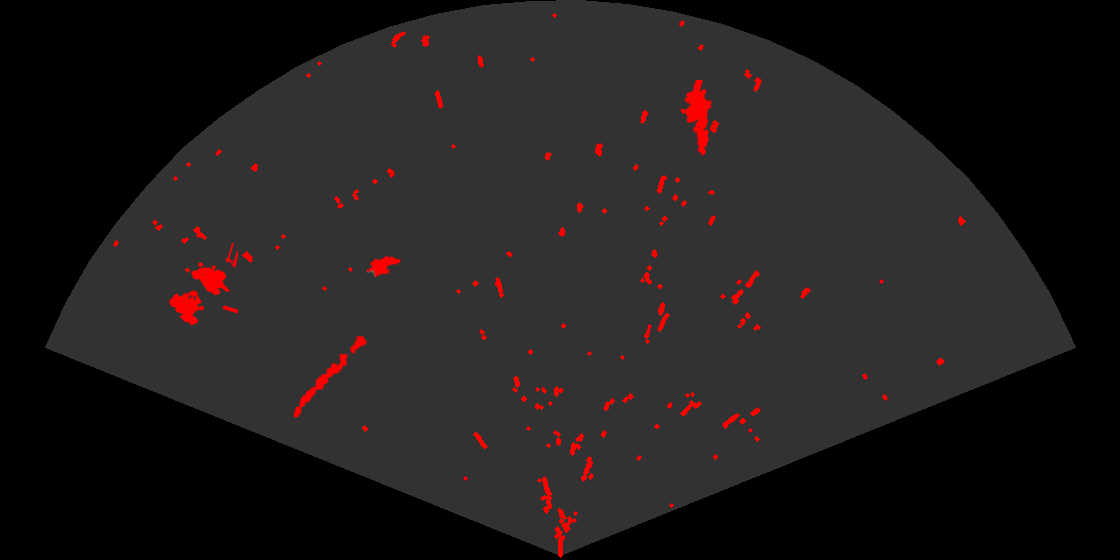AUV: (364, 254, 403, 279)
cage: (167, 243, 238, 327)
chain: (292, 334, 369, 419)
frogman: (679, 80, 713, 157)
